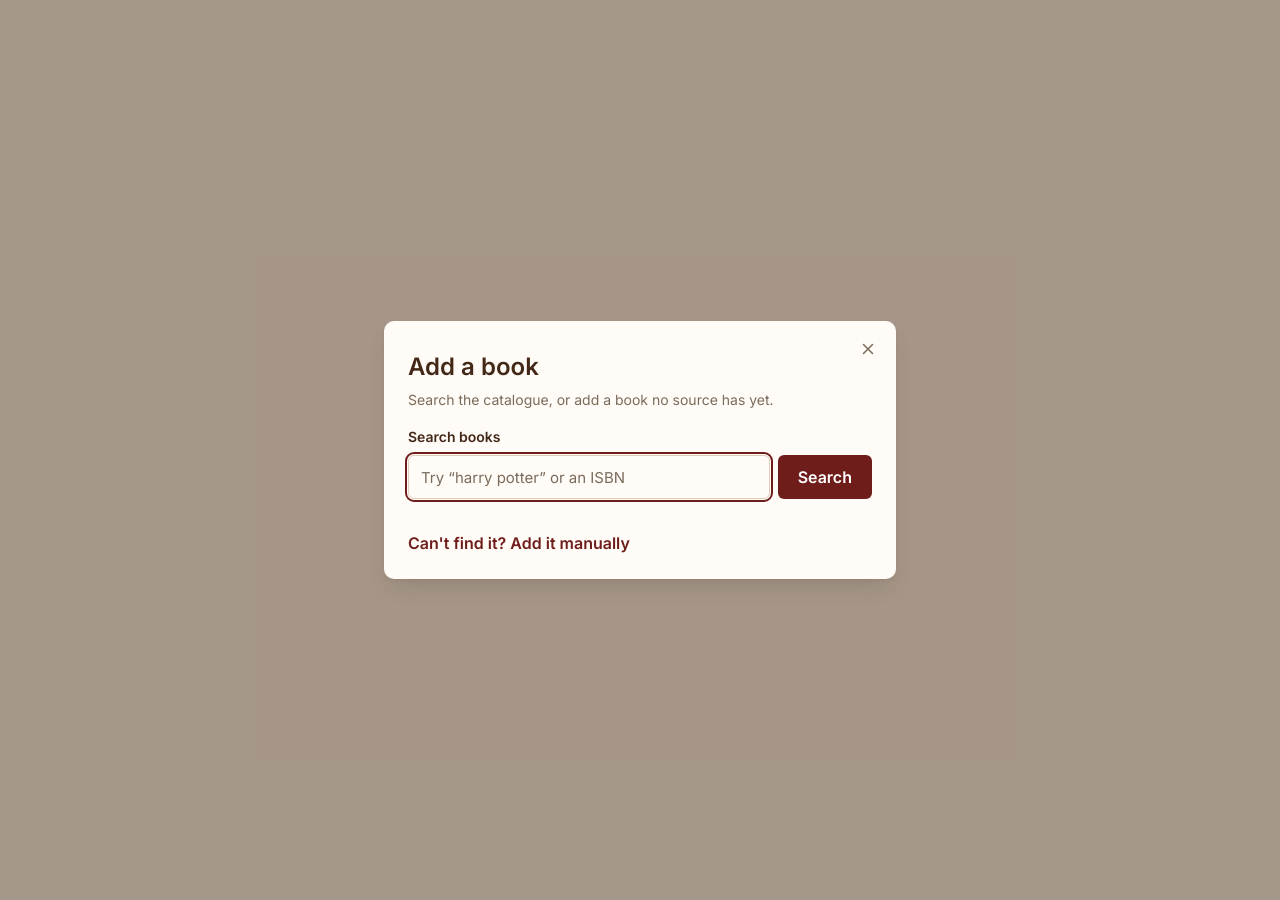
it: AddBookModal › clears the search and its results
The image size is (1280, 900).
Type "Dune" into the search field with id "library-add-book-search" at (589, 477), box left=408, top=455, right=770, bottom=499
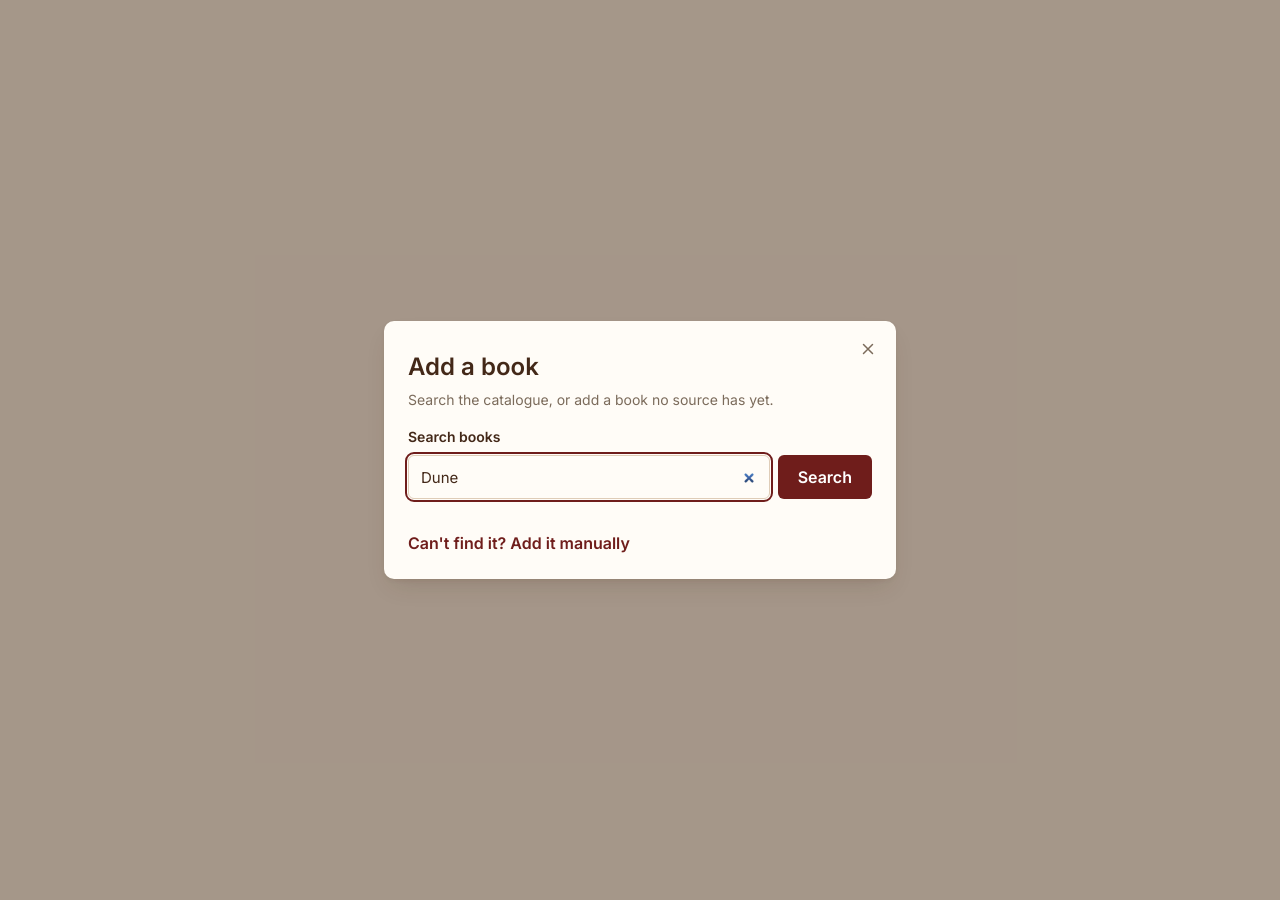
Submit the form, box left=408, top=426, right=872, bottom=499
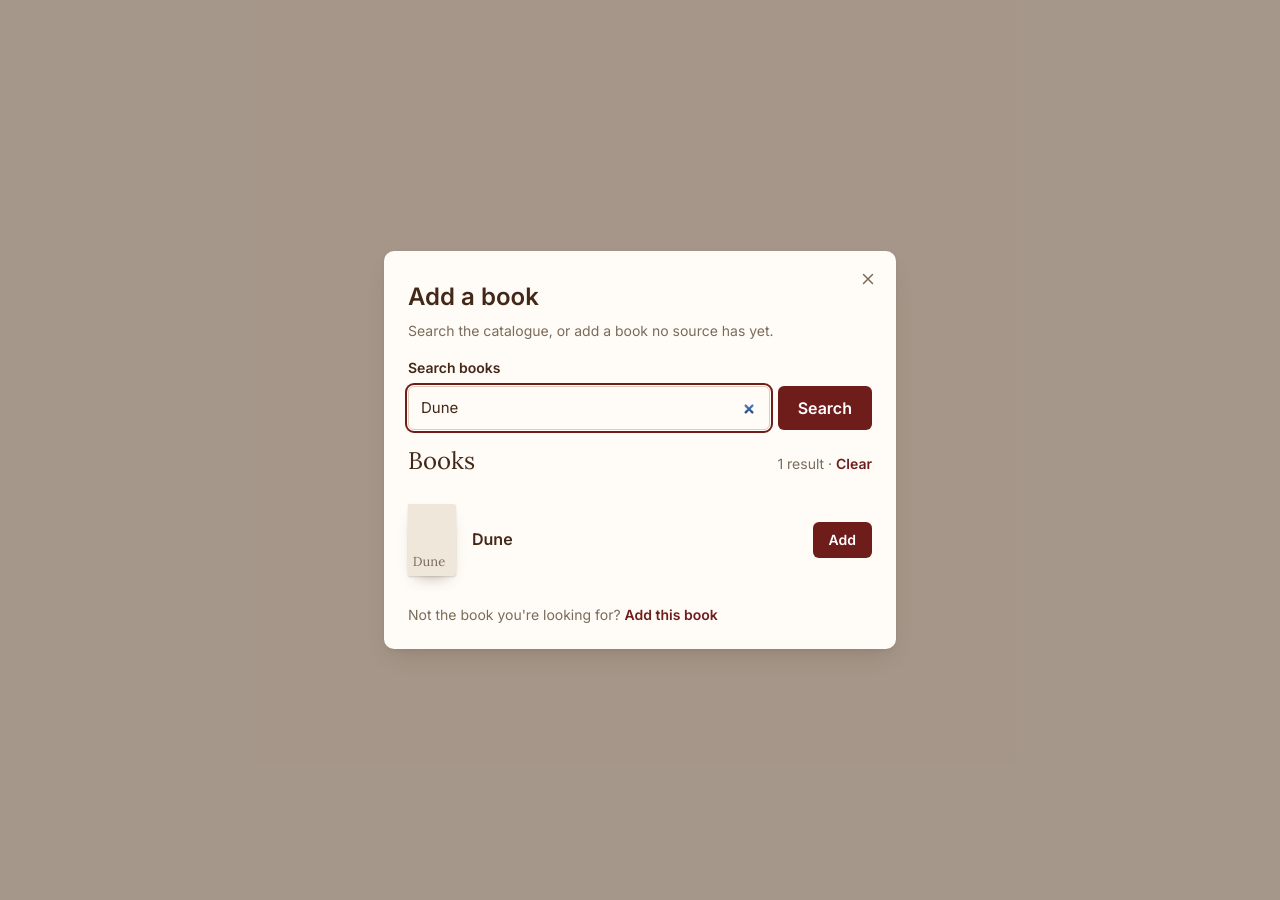
Click the button with class "link-button" showing "Clear" at (854, 463), box left=836, top=453, right=872, bottom=474
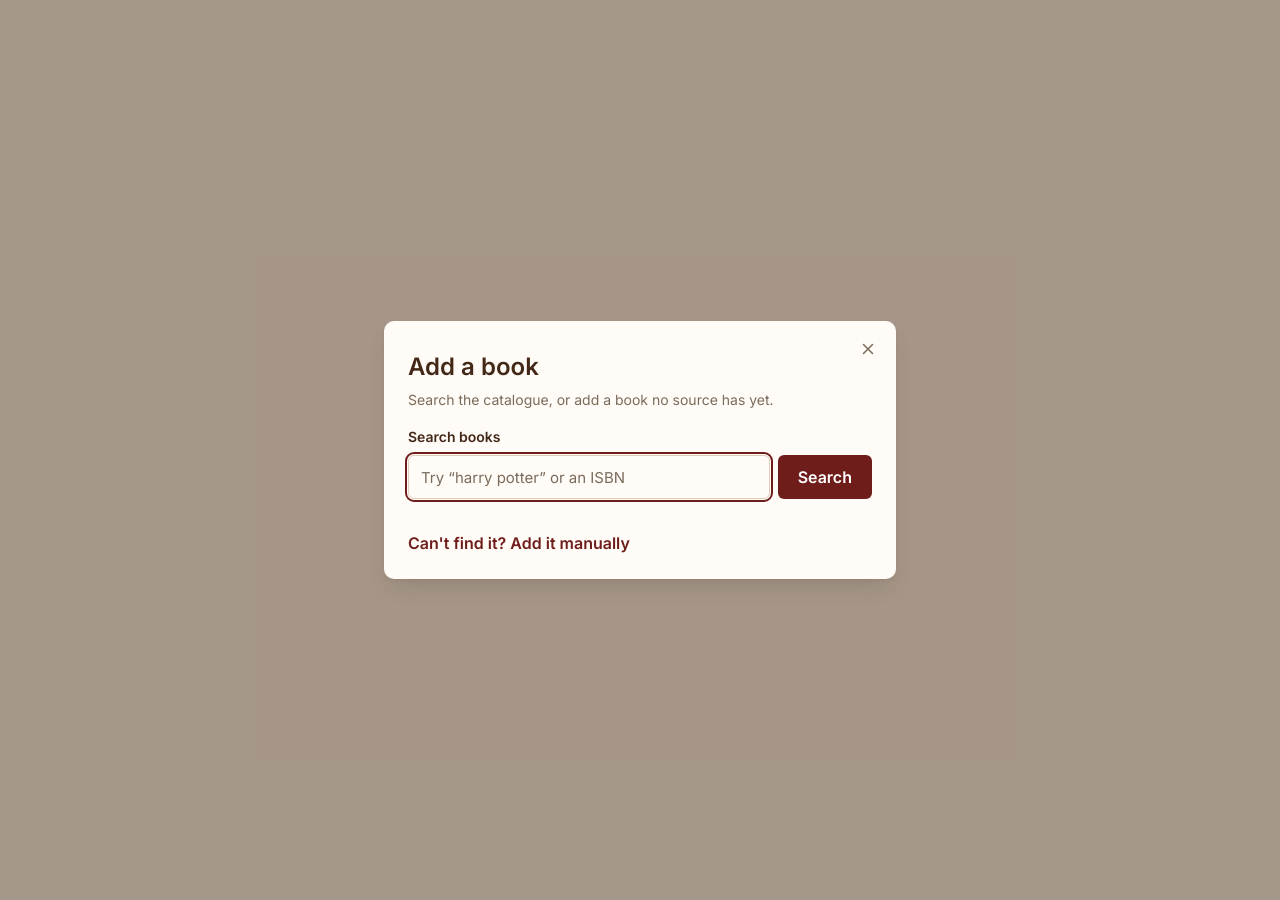
Expected: the search field with id "library-add-book-search" is empty, left=408, top=455, right=770, bottom=499
